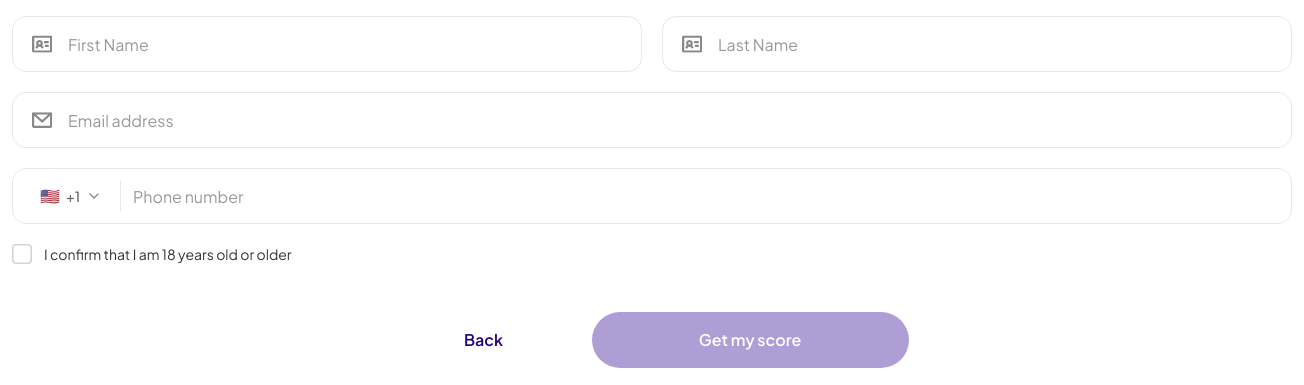
DetailsForm › keeps the button disabled until the box is ticked
This screenshot has width=1304, height=385.
Type "Ada" into the field labelled "First Name" at (327,44), box [12, 16, 642, 72]
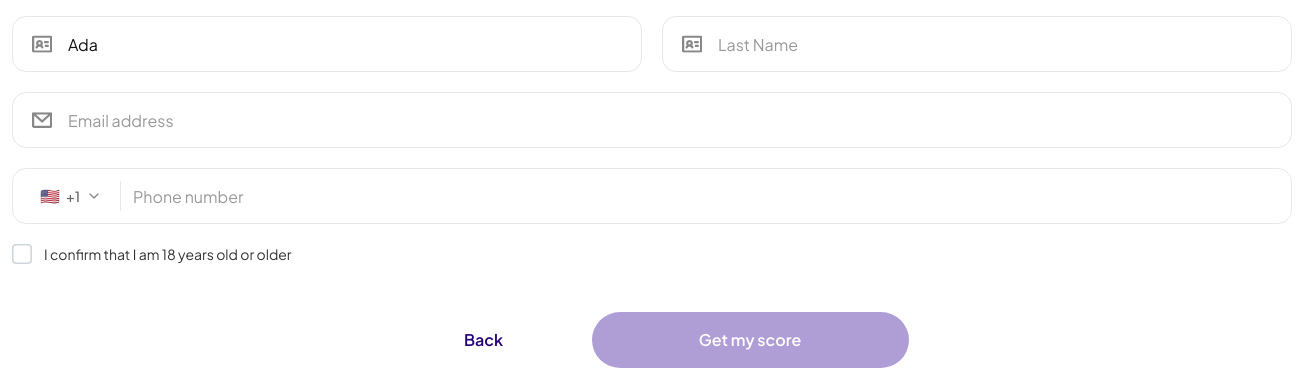
Type "Lovelace" into the field labelled "Last Name" at (977,44), box [662, 16, 1292, 72]
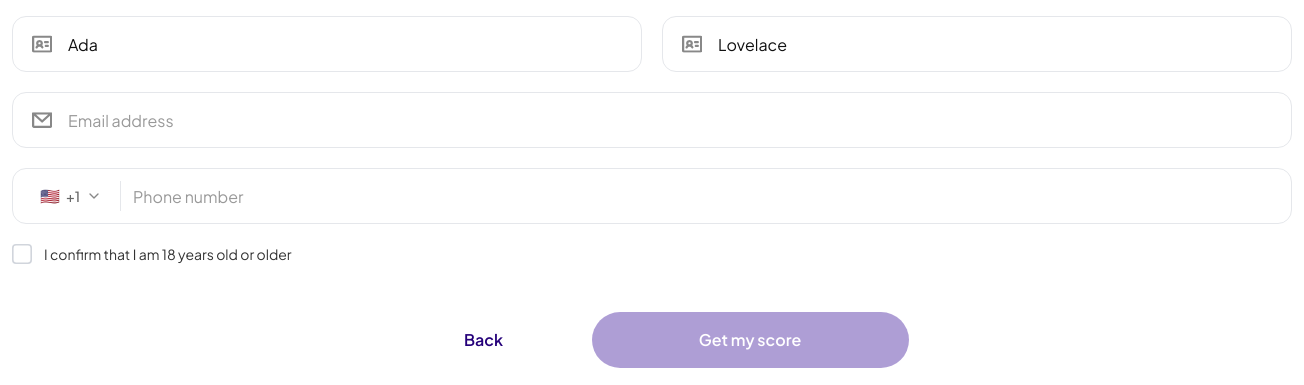
Type "ada@example.com" into the field labelled "Email address" at (652,120), box [12, 92, 1292, 148]
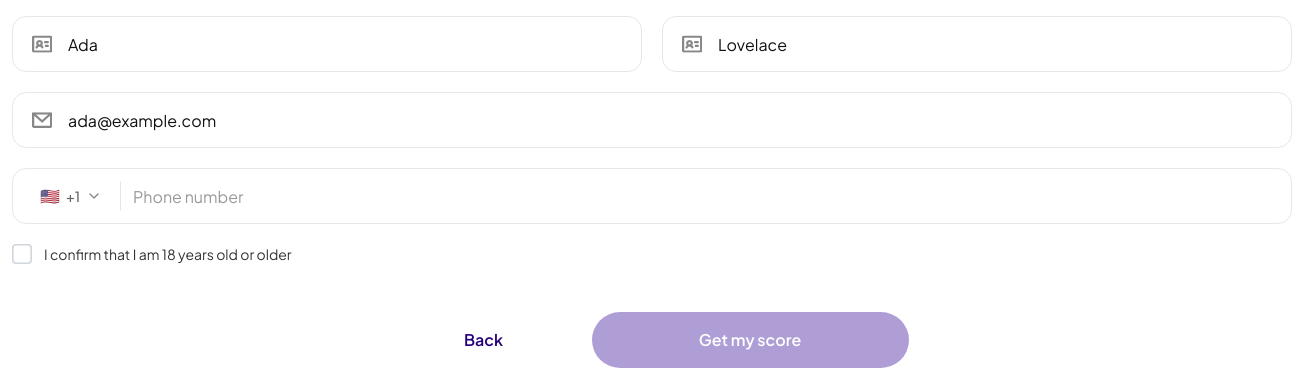
Type "555 123 0000" into the field labelled "Phone number" at (652,196), box [12, 168, 1292, 224]
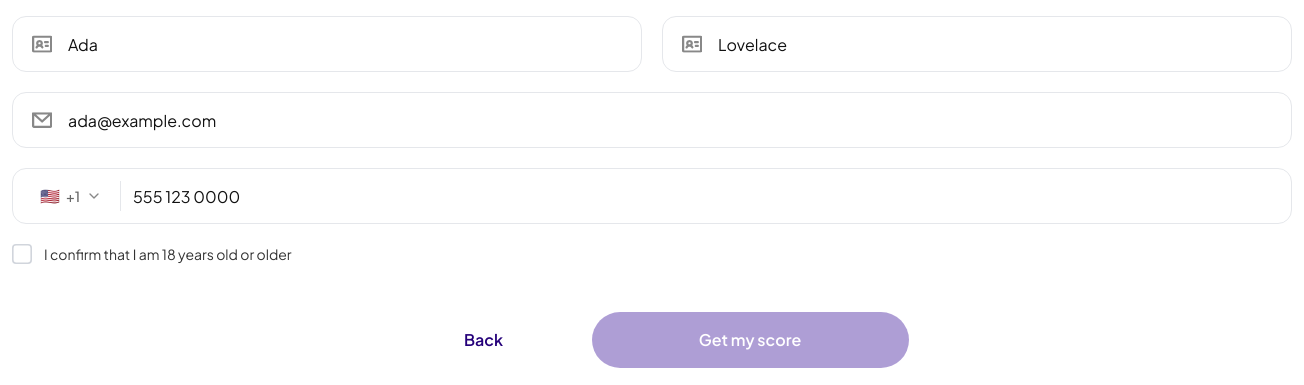
Expected: the button "Get my score" is disabled, [592, 312, 908, 368]
Click the checkbox labelled "I confirm that I am 18 years old or older" at (152,254), box [12, 244, 292, 264]
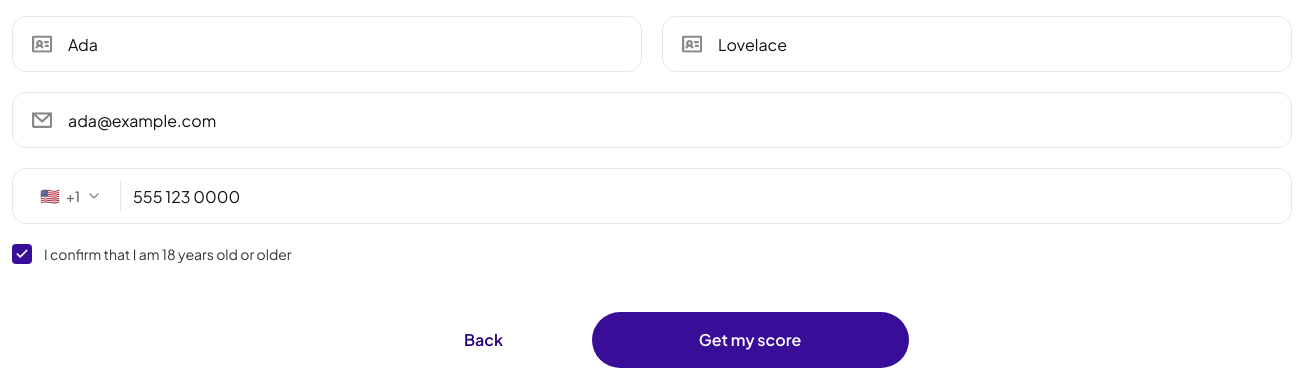
Now the button "Get my score" is enabled, box [592, 312, 908, 368]
Click the checkbox labelled "I confirm that I am 18 years old or older" at (152,254), box [12, 244, 292, 264]
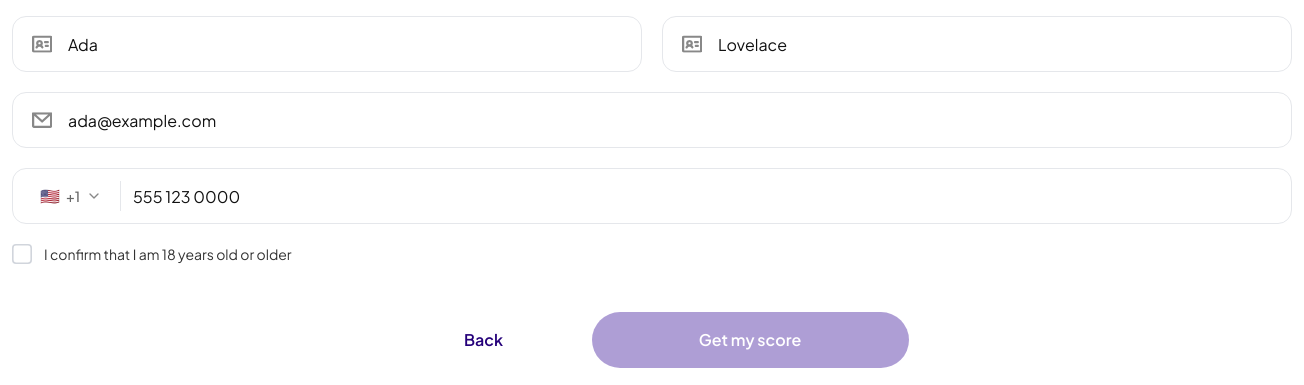
Now the button "Get my score" is disabled, box [592, 312, 908, 368]
